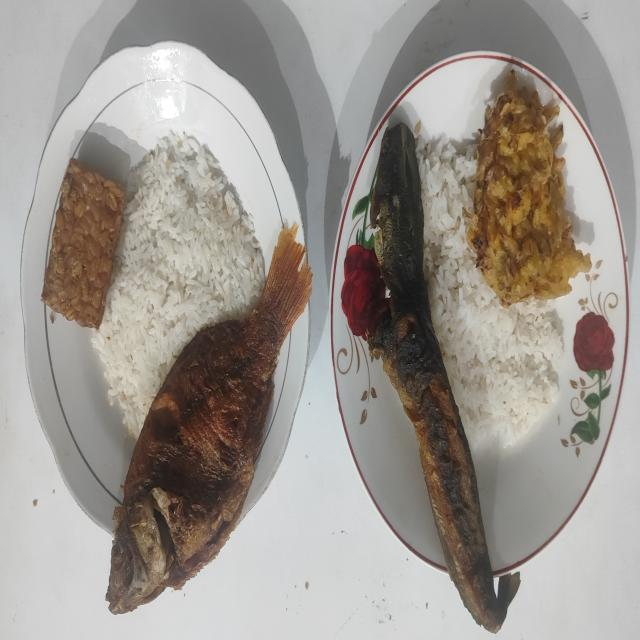ikan_mujair: (106, 226, 312, 614)
nasi_putih: (91, 130, 266, 438), (417, 136, 564, 448)
tempe_goreng: (41, 159, 126, 329)
